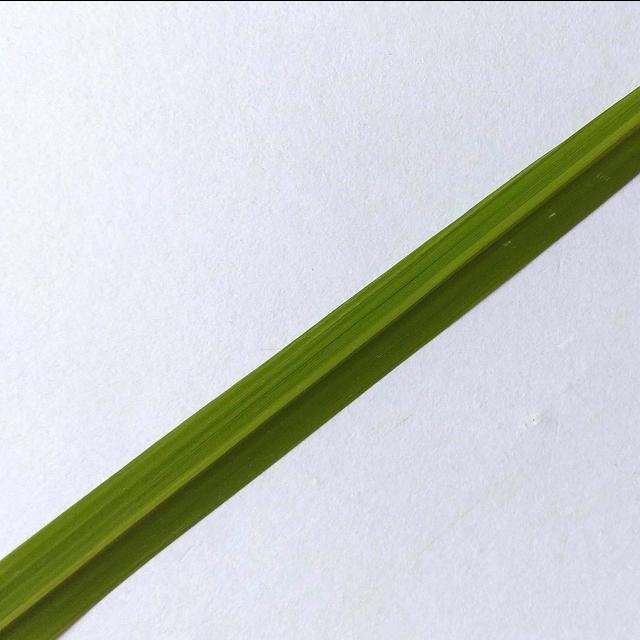healthy: (0, 78, 640, 640)
